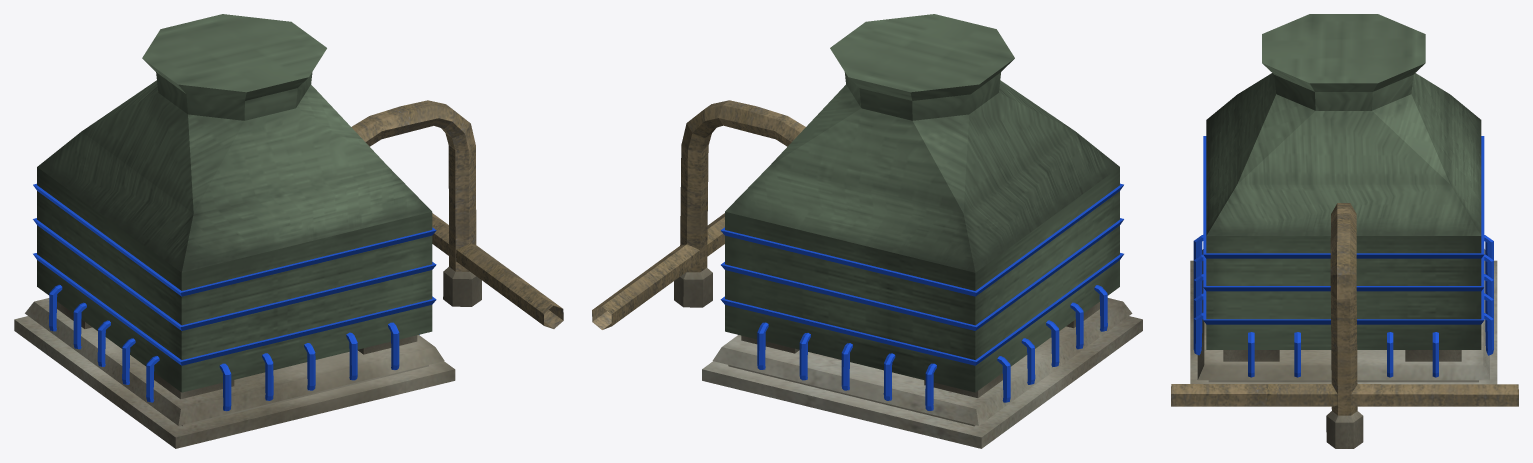
Rendered from Torre resfriamento 1.fbx.
The picture shows the model from 3 angles, left to right: view 1: azimuth 30°, elevation 25°; view 2: azimuth 150°, elevation 25°; view 3: azimuth 270°, elevation 25°; orthographic projection. The views are drawn at different scales.
Visible parts, largest first — view 1: Cube.001; view 2: Cube.001; view 3: Cube.001.
Boxes of the visible parts, <box> form: Cube.001: <box>14,14,563,448</box>; Cube.001: <box>592,14,1142,448</box>; Cube.001: <box>1171,14,1518,448</box>.
Bounding box in the file's own units: 914 × 690 × 756.
